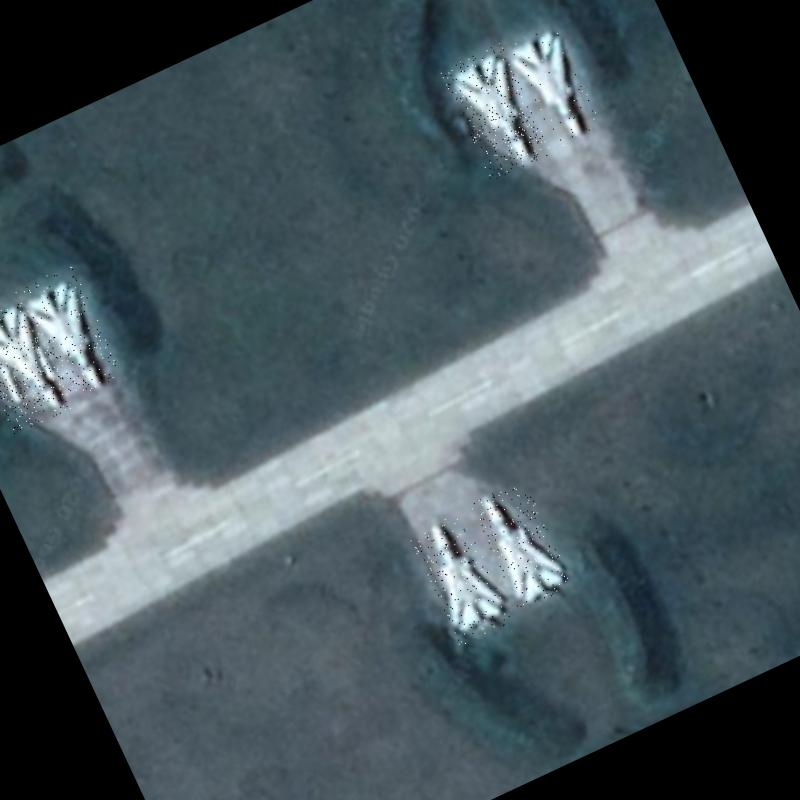A20: (439, 42, 552, 181), (14, 263, 123, 401), (408, 510, 513, 646), (470, 478, 574, 610), (508, 24, 603, 150), (0, 296, 79, 434)
